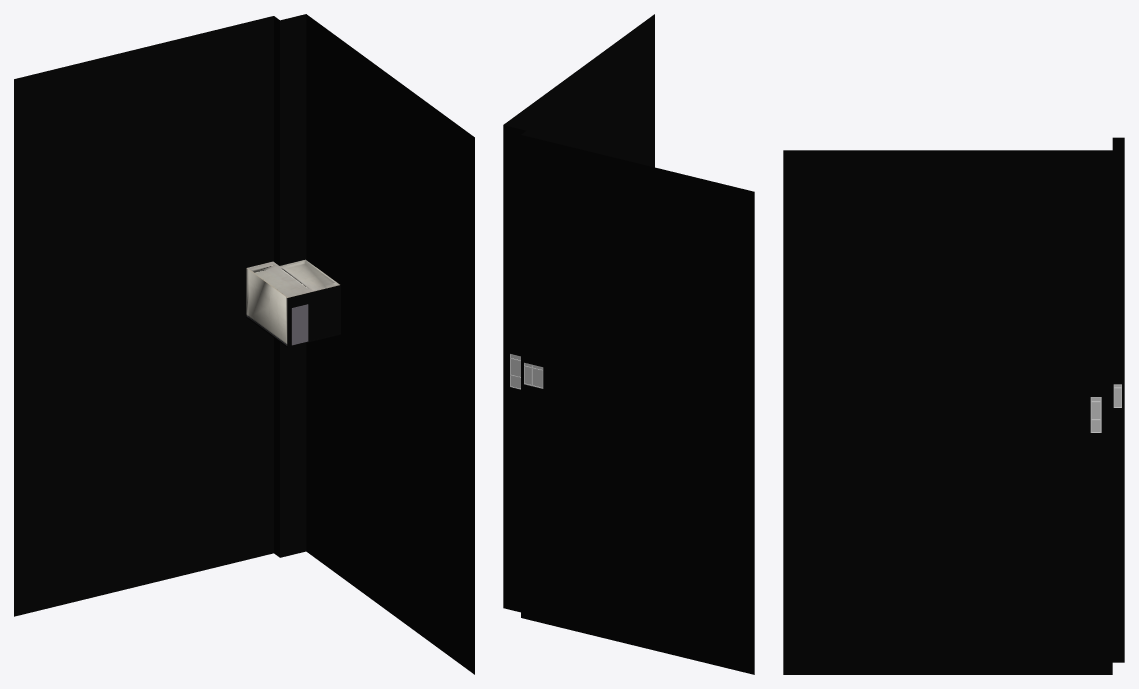
The model's file is Mini apartment.fbx.
3 renders of one model, left to right at view 1: azimuth 30°, elevation 25°; view 2: azimuth 150°, elevation 25°; view 3: azimuth 270°, elevation 25°, orthographic. The views are drawn at different scales.
Visible parts, largest first — view 1: externalwall.001, top&bot.001, Plane; view 2: externalwall.001, Cube.001; view 3: externalwall.001, Cube.001.
Part boxes in pixels (<box>): externalwall.001: <box>14,14,474,674</box>; top&bot.001: <box>246,259,339,345</box>; Plane: <box>287,285,340,346</box>; externalwall.001: <box>503,14,754,674</box>; Cube.001: <box>511,354,542,388</box>; externalwall.001: <box>783,137,1124,674</box>; Cube.001: <box>1091,385,1121,431</box>.
Bounding box in the file's own units: 1860 × 3340 × 1970.
